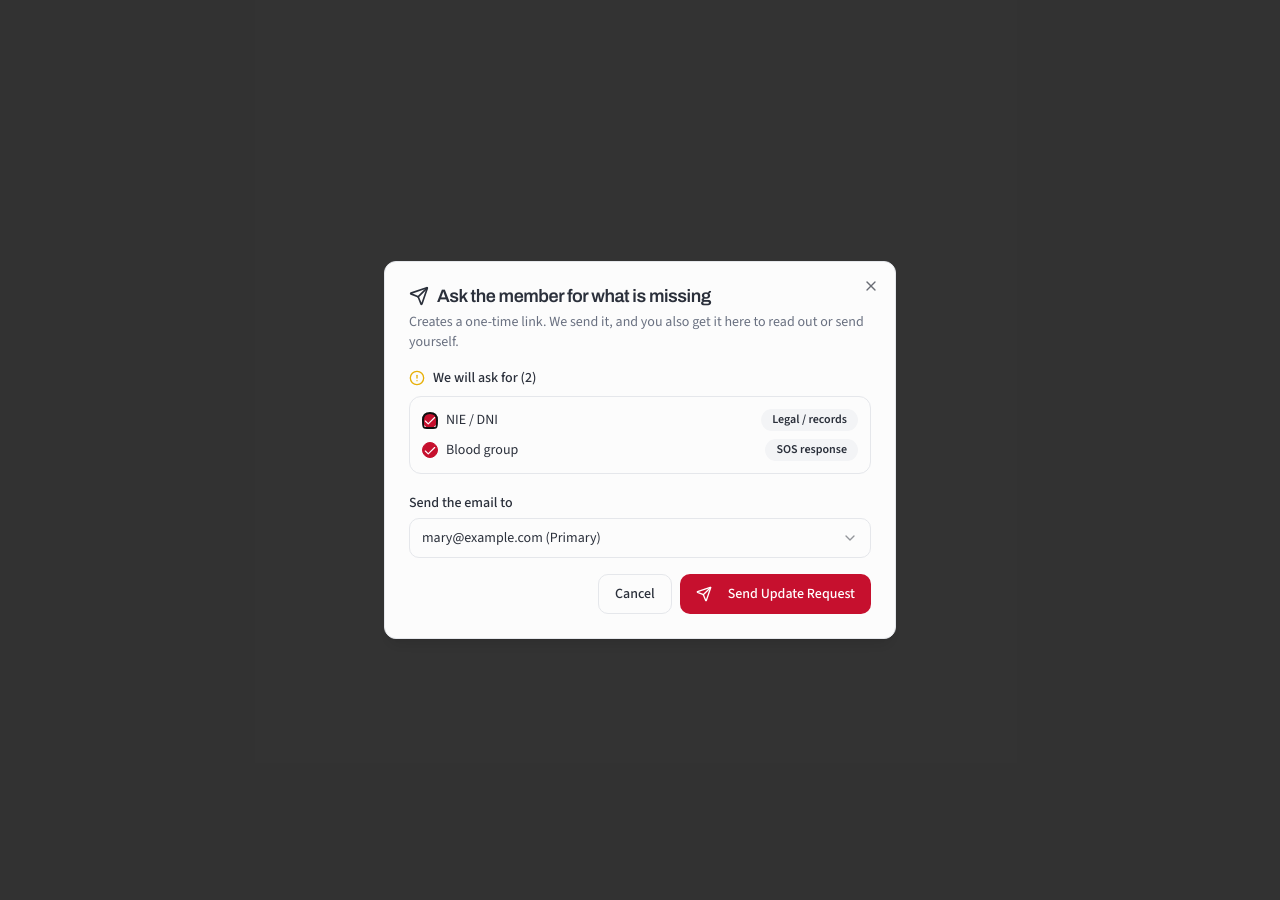
Test: the member's update link › is shown even when every channel failed to deliver it
Click the button "Send Update Request".
click(775, 594)  # box left=680, top=574, right=871, bottom=614
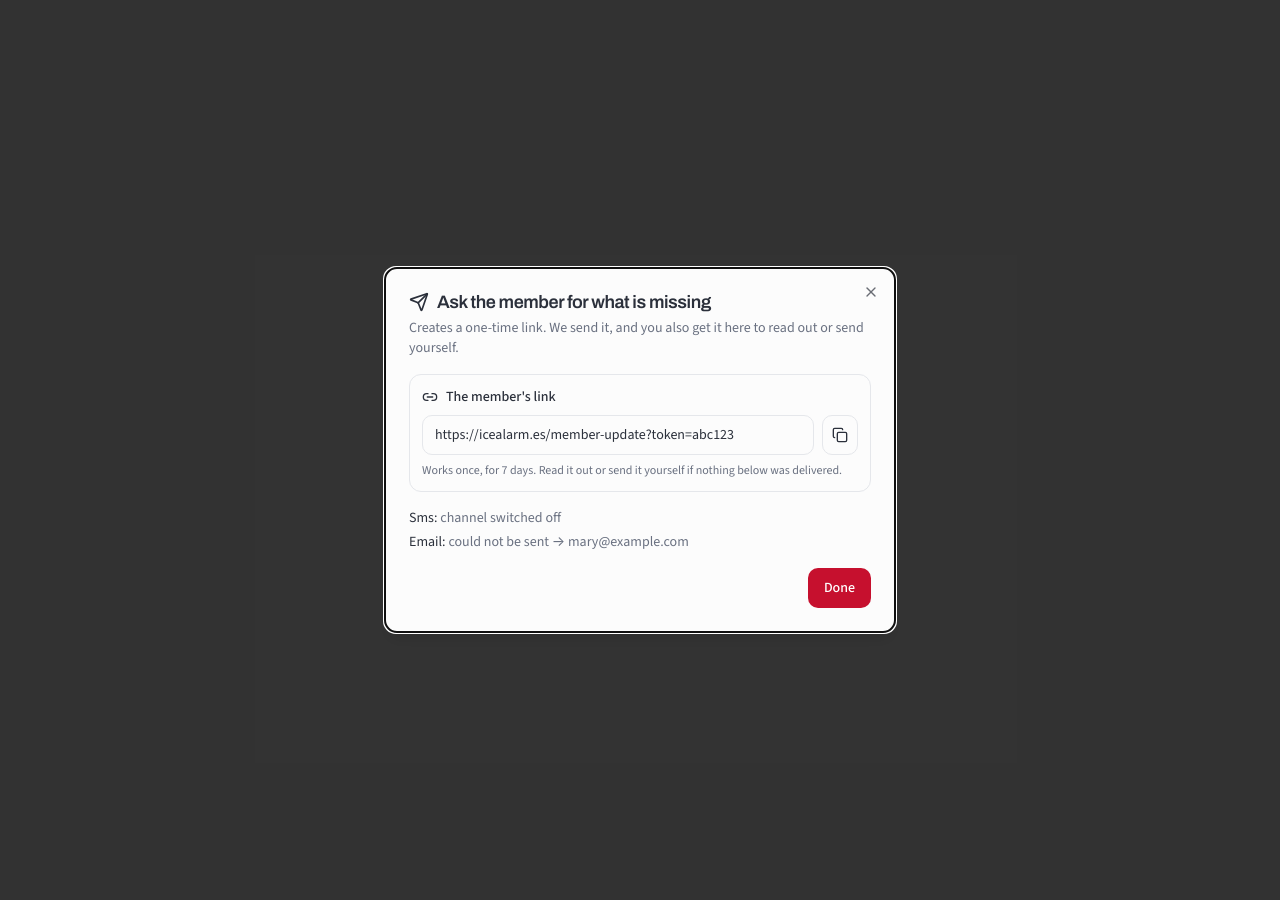
Now the element with test id "update-request-result" is shown, box left=409, top=374, right=871, bottom=552
Now the field with test id "update-request-link" holds "https://icealarm.es/member-update?token=abc123", box left=422, top=415, right=814, bottom=455
Now the text "channel switched off" is shown, box left=440, top=508, right=561, bottom=528
